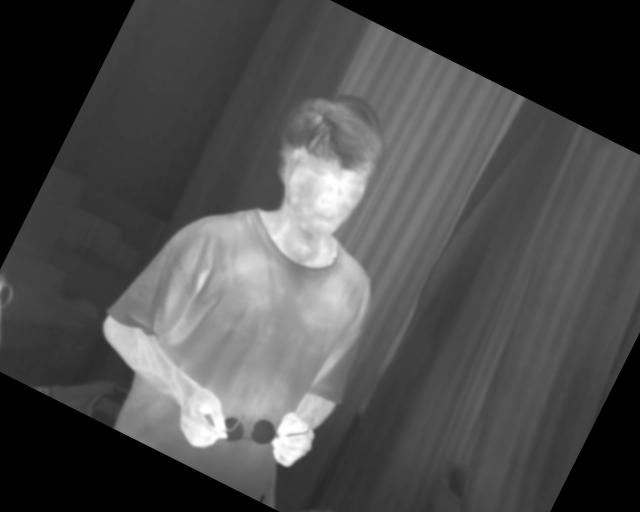face: (242, 70, 405, 250)
